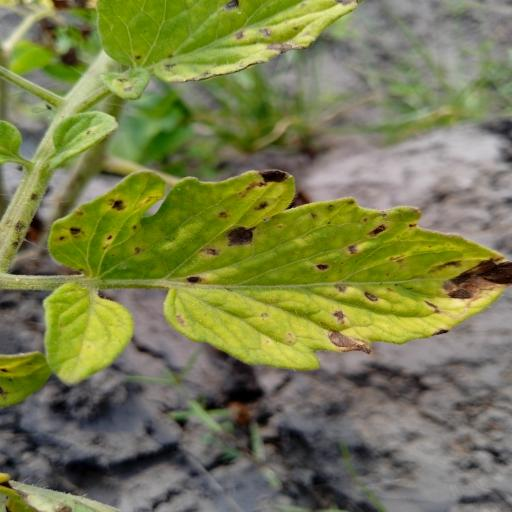Tomato_Brown_Spots: (40, 168, 512, 387), (89, 0, 362, 106)
